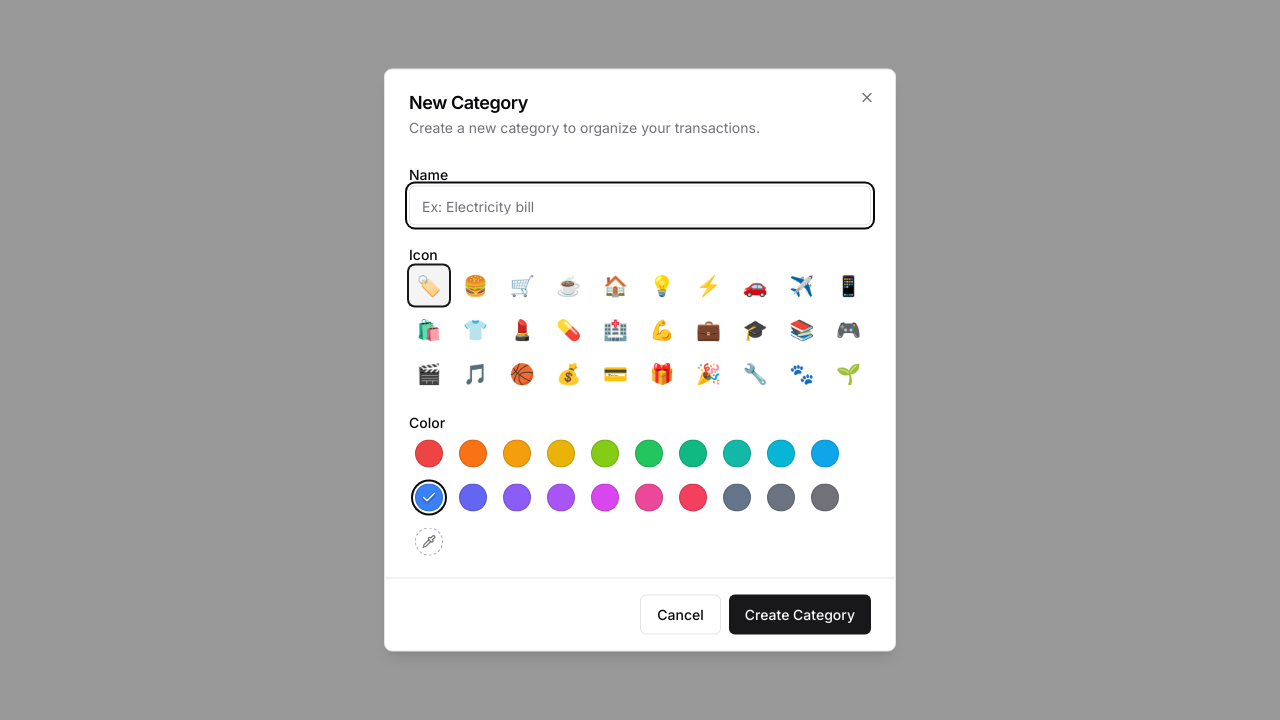
it: CategoryFormModal › shows an inline error and stays open when saving fails
Type "Groceries" into the field labelled "Name" at (640, 206), box [409,186,871,226]
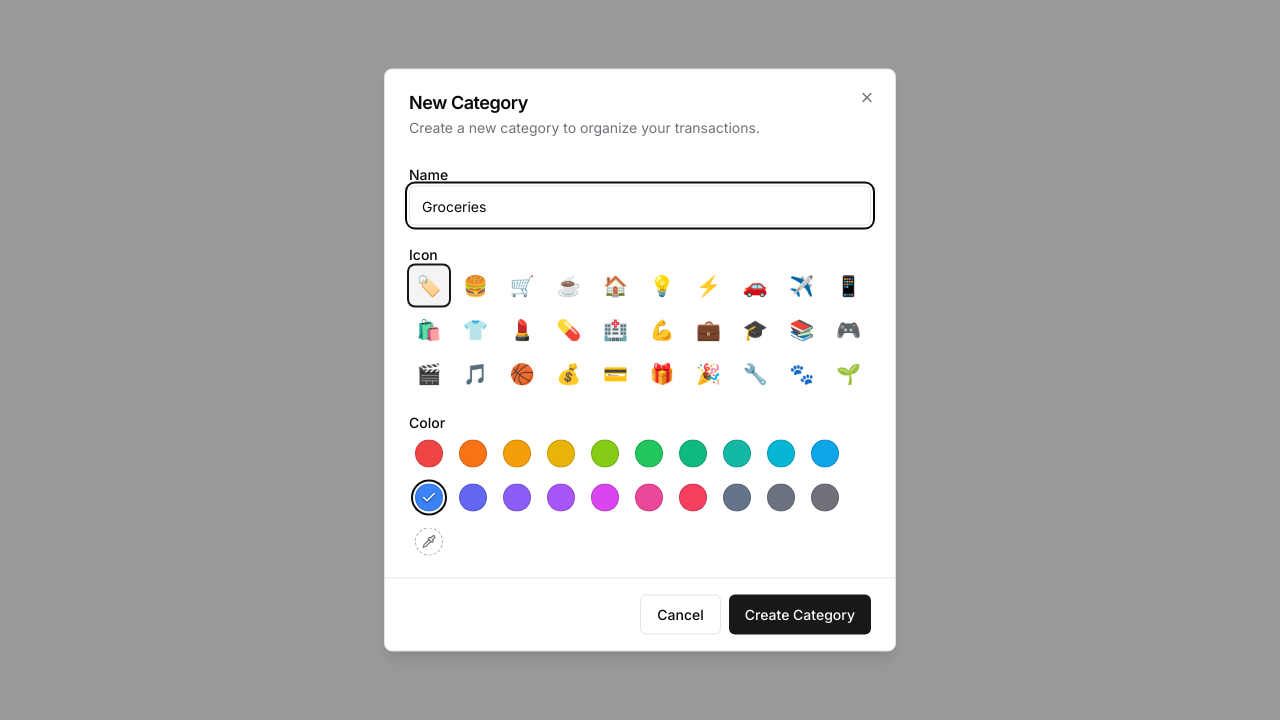
Click the button "Create Category" at (800, 614), box [729,594,871,634]
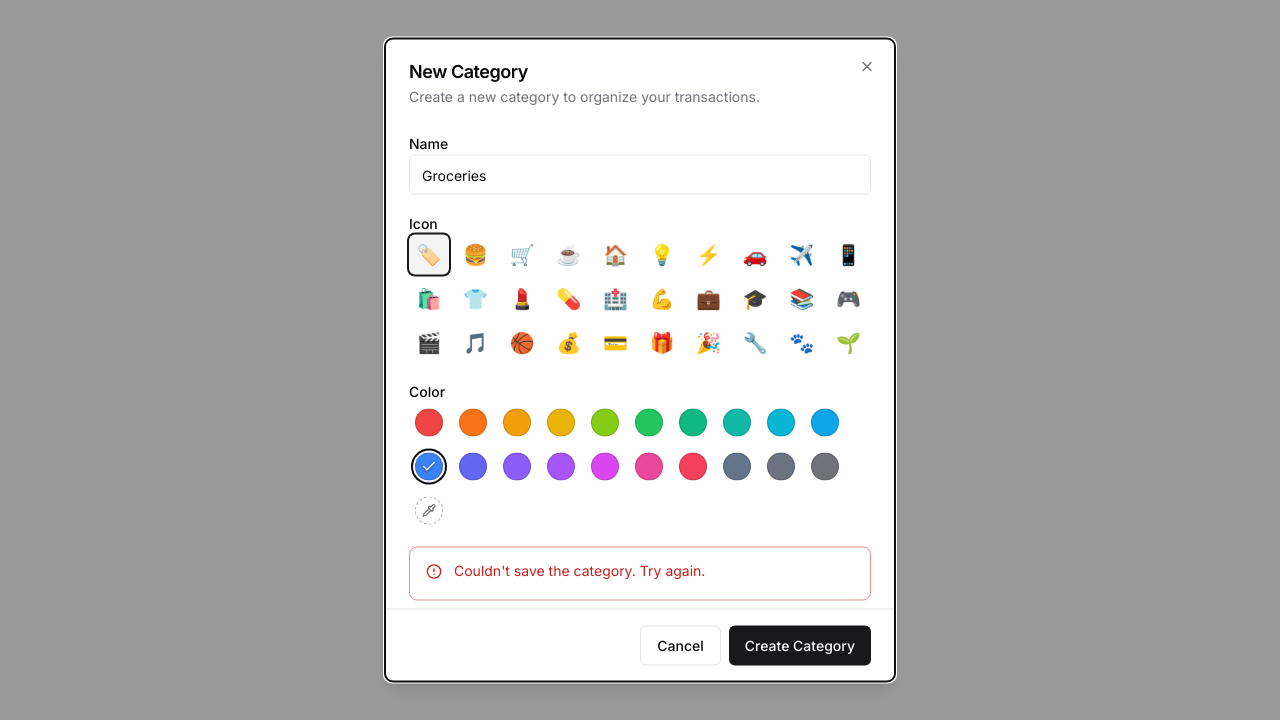
Check: the text "Couldn't save the category. Try again." is shown, box [454,562,705,578]
